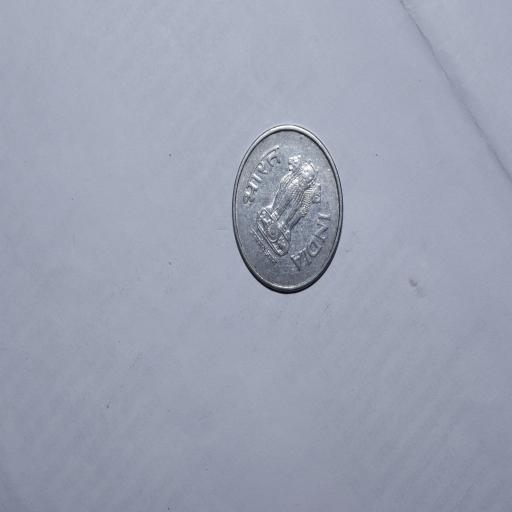rupee1: (228, 124, 342, 296)
